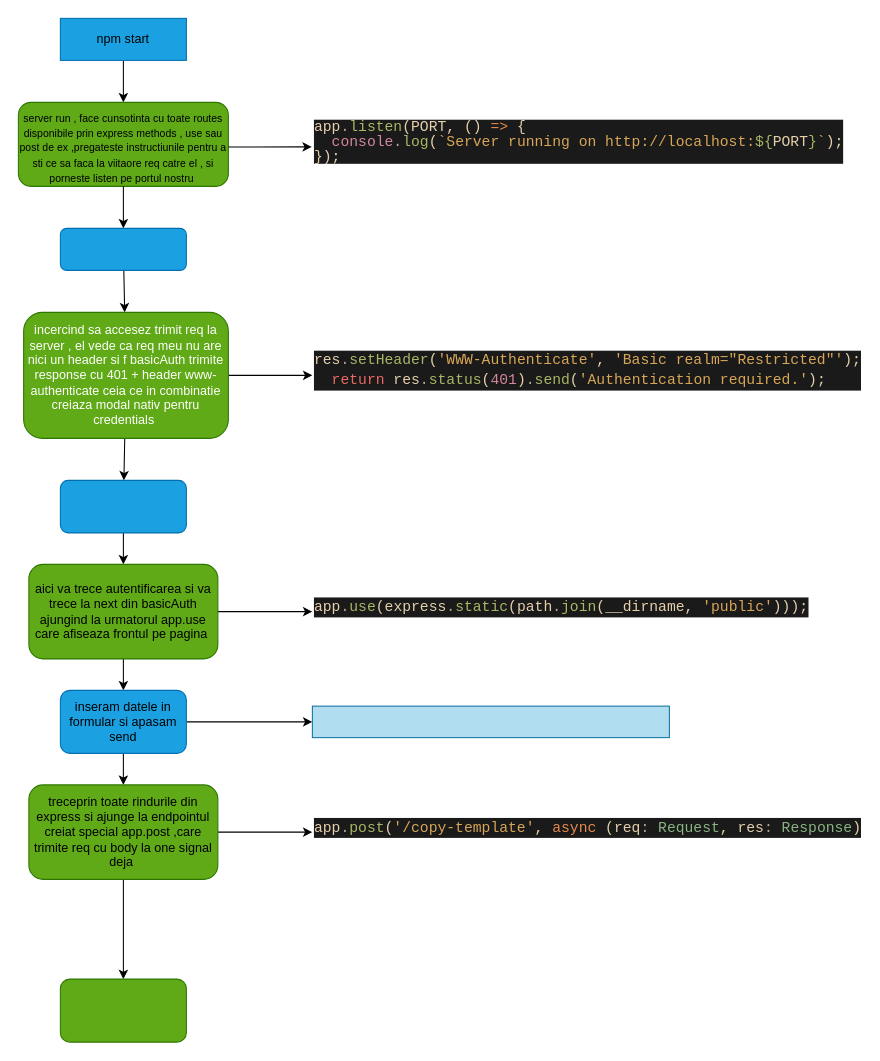
This 880x1061 diagram has some shape labels left out. The centre of each missing label's shape, as x and y in pixels:
"fetch('/copy-template', { method: 'POST', ... })" goes at (490,721).
"inseram datele si retrimitem alt req cu date pentru auth" goes at (122,506).
"localhost:PORT" goes at (122,248).
